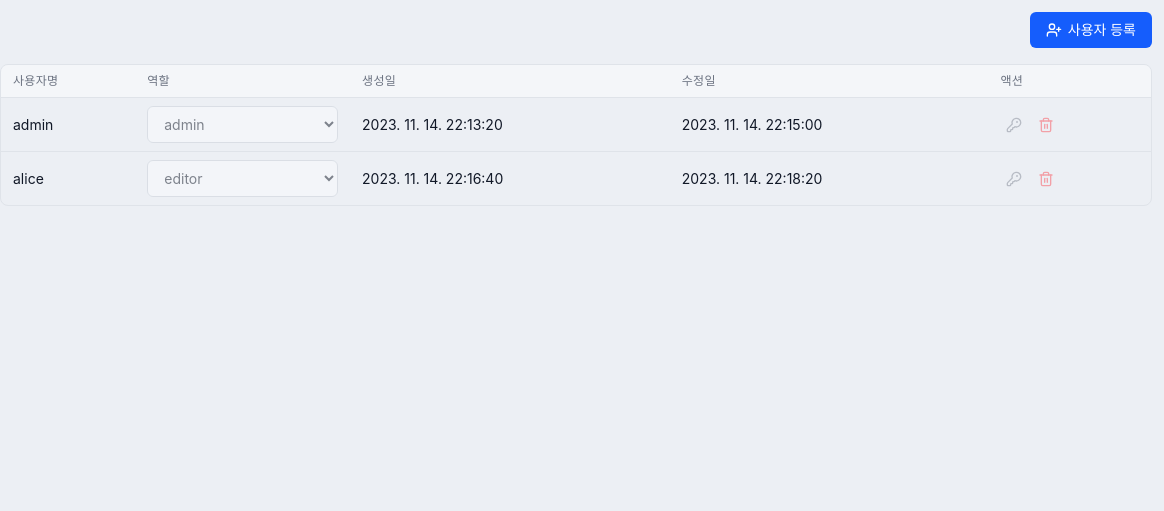
UsersPanel 등록 폼 (AC-03) › role.read 가 없으면 역할 목록을 조회하지 않고 자유 입력으로 낮춘다
expect the row with test id "admin-user-row-alice" is shown: met, box [1, 152, 1151, 205]
Click the button "사용자 등록". click: x=1091, y=30
box: [1030, 12, 1152, 48]
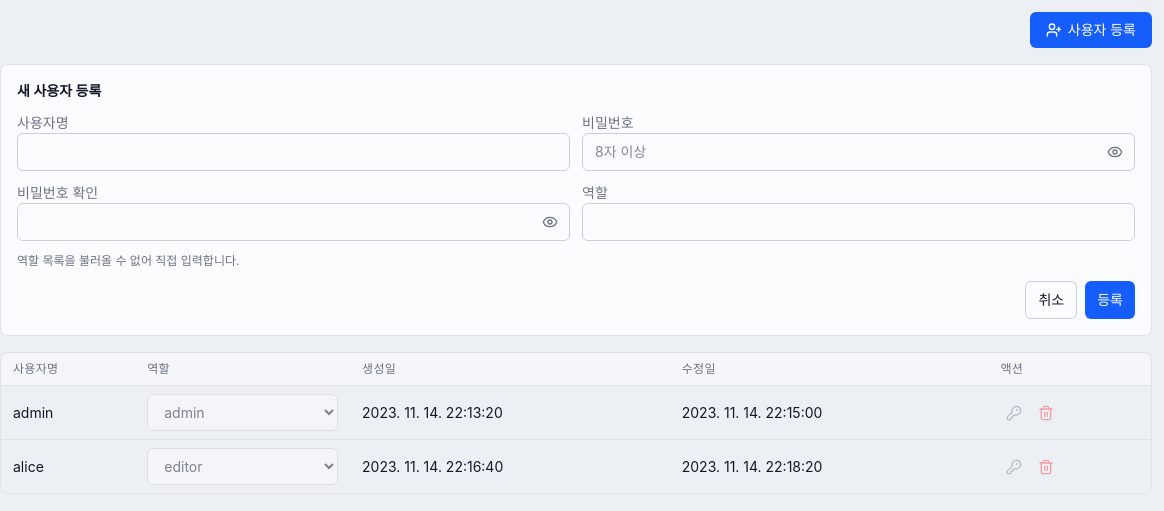
expect the text "역할 목록을 불러올 수 없어 직접 입력합니다." is shown: met, box [17, 253, 239, 268]
